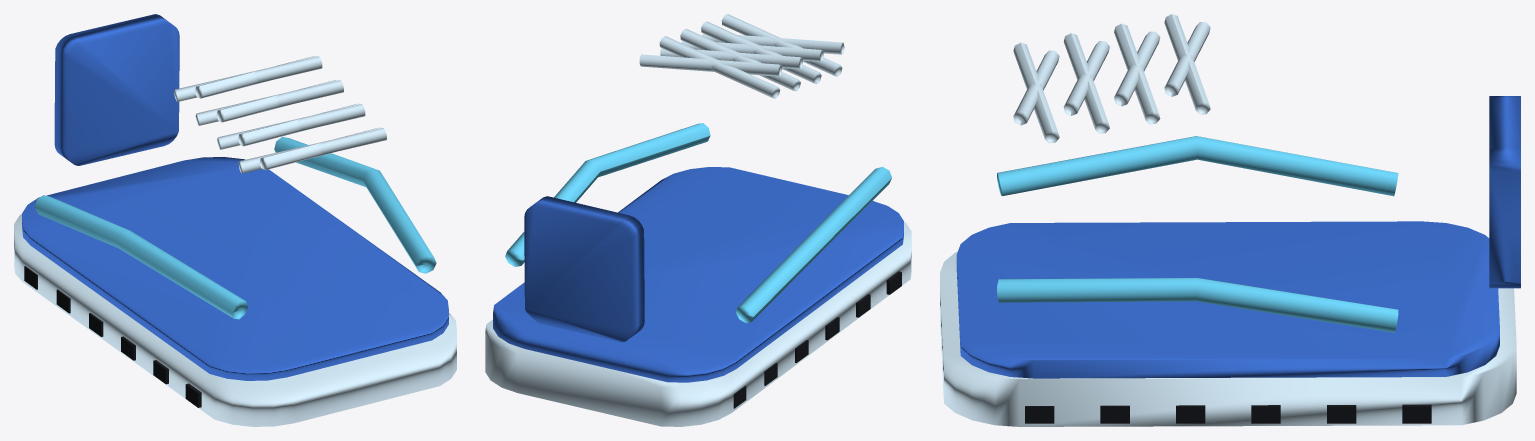
Rendered from nova_left_shoe_trim.glb.
3 views of the same model, side by side, from view 1: azimuth 30°, elevation 25°; view 2: azimuth 150°, elevation 25°; view 3: azimuth 270°, elevation 25° (orthographic). The views are drawn at different scales.
Visible parts, largest first — view 1: nova_left_shoe_trim; view 2: nova_left_shoe_trim; view 3: nova_left_shoe_trim.
Part boxes in pixels (left/top/right/bottom): nova_left_shoe_trim: left=14, top=14, right=456, bottom=426; nova_left_shoe_trim: left=485, top=14, right=911, bottom=426; nova_left_shoe_trim: left=940, top=14, right=1520, bottom=426.
Bounding box in the file's own units: 0.172 × 0.1622 × 0.277.
